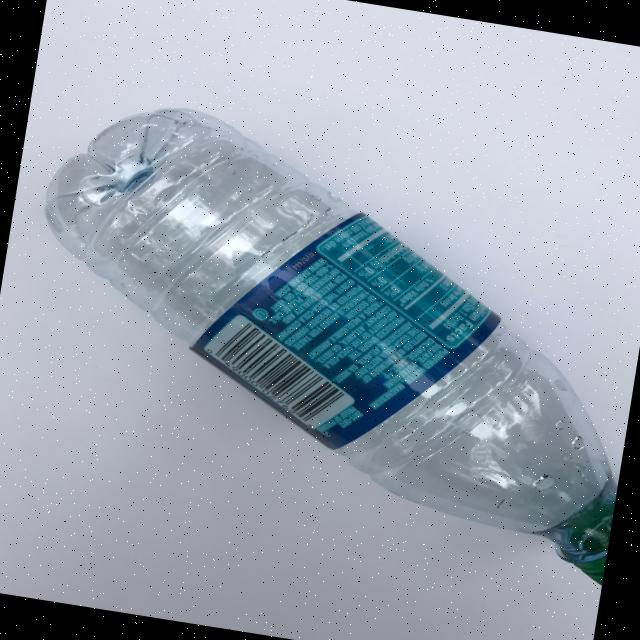plastic: (0, 86, 640, 584)
